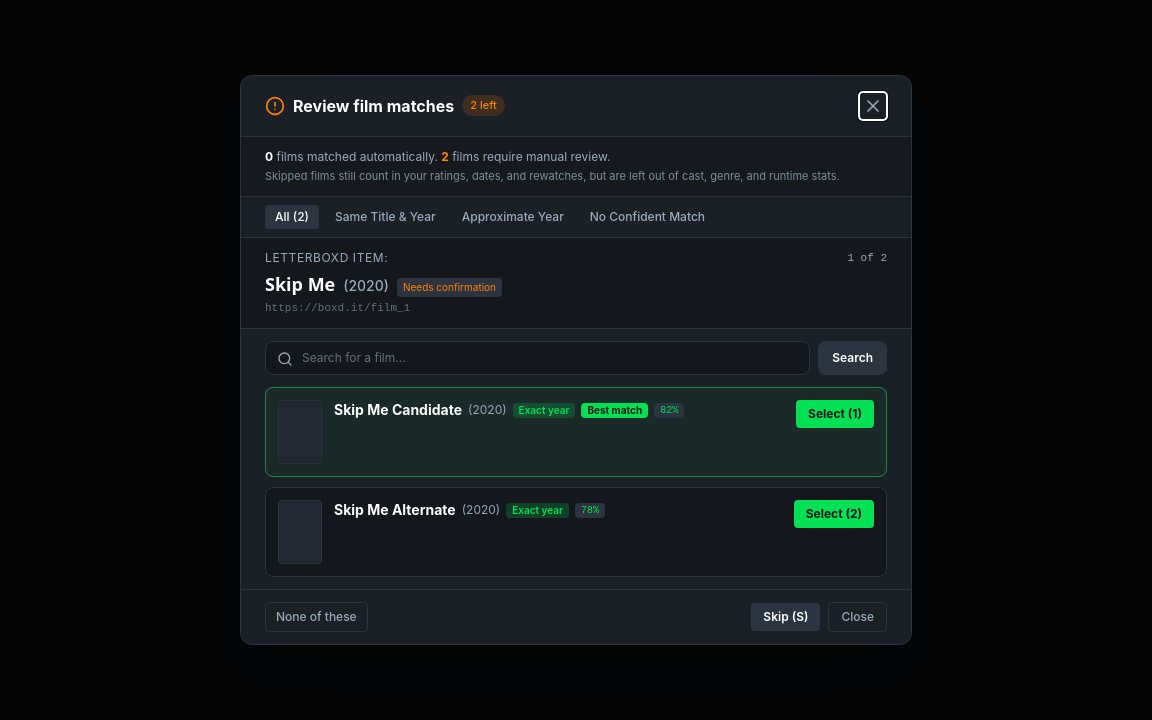
Test: Phase 3: Review Matches Modal Queue & Performance Tests › 3. Skip retains item in queue accessible via Skipped filter and is never lost
Check: the text "Skip Me" is shown, box [265, 270, 335, 298]
# Click Skip
Click the button "Skip (S)" at [786, 617], box [751, 603, 820, 631]
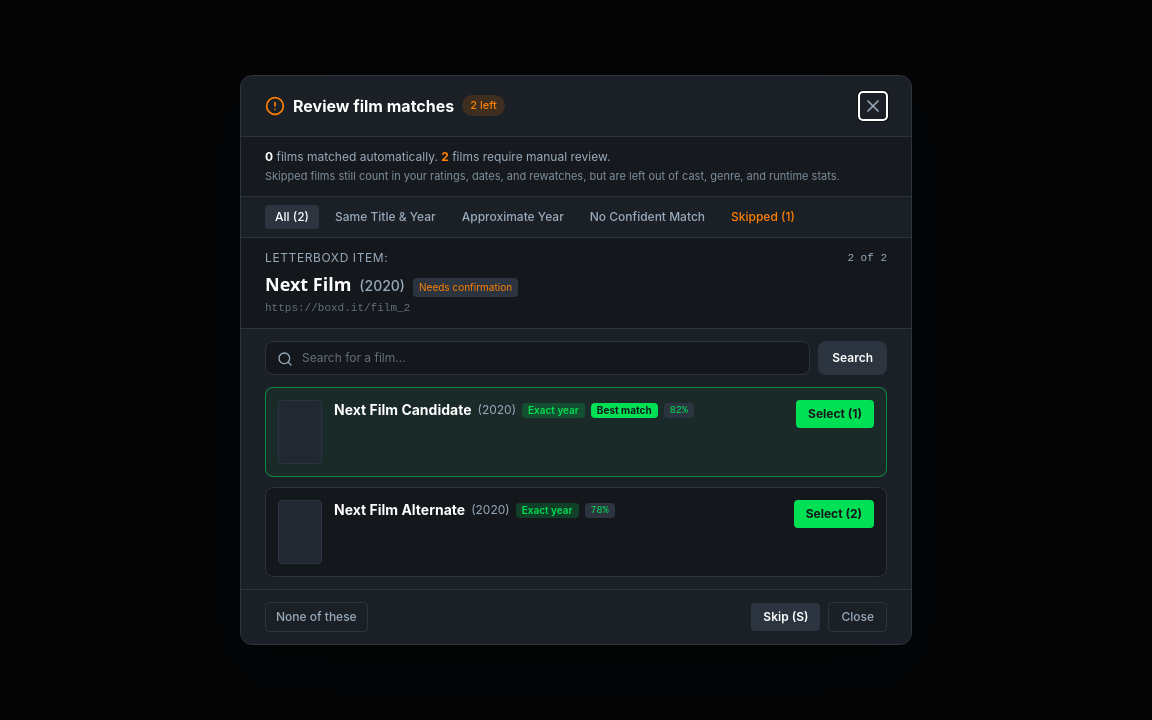
Check: the text "Next Film" is shown, box [265, 270, 351, 298]
Check: the button "Skipped (1)" is shown
# Switch to Skipped tab
Click the button "Skipped (1)" at [763, 217], box [721, 205, 805, 229]
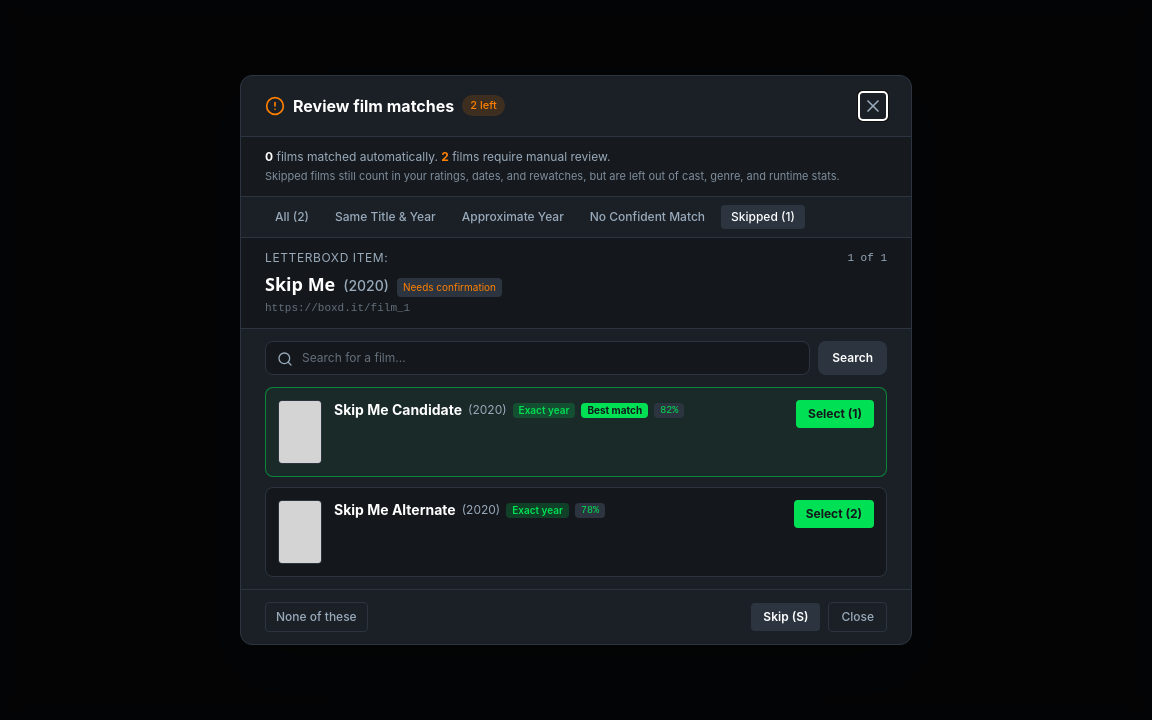
Check: the text "Skip Me" is shown, box [265, 270, 335, 298]
